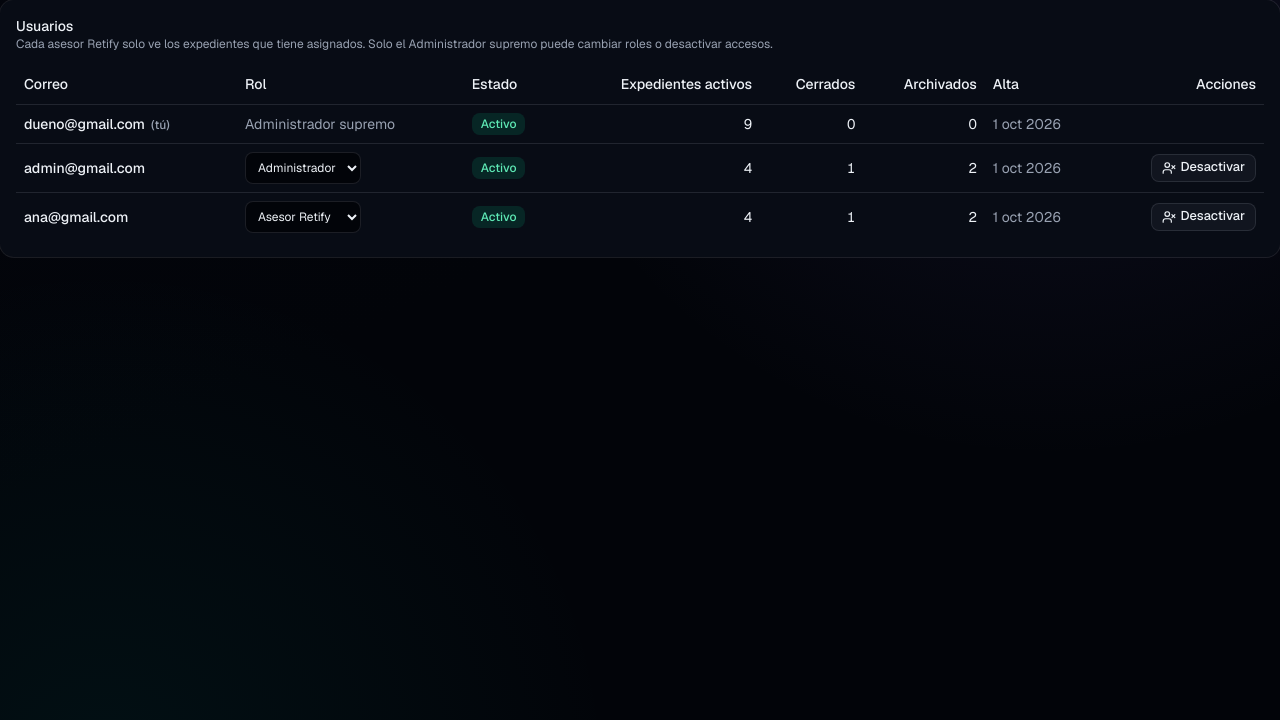
Scenario: TeamMembers › shows the server's reason when the change is refused
Click the button with aria-label "desactivar a ana@gmail.com" at (1204, 216), box [1152,202,1256,230]
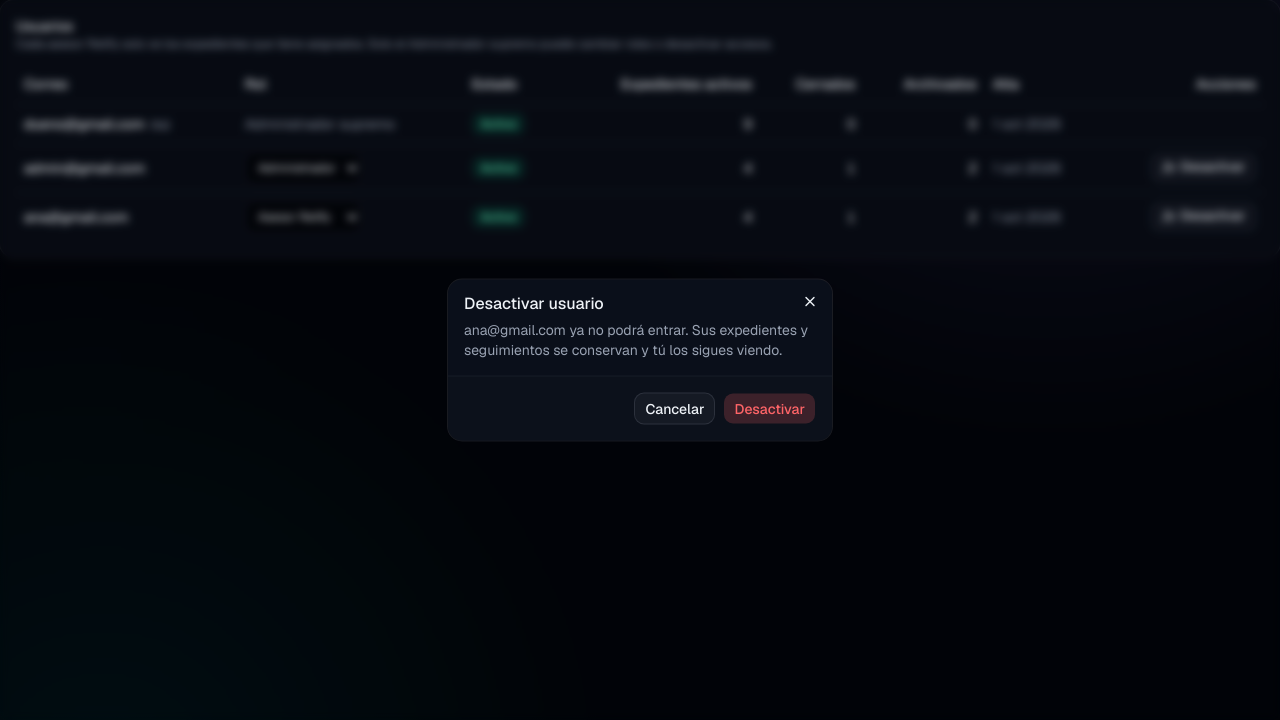
Click the button "Desactivar" at (770, 408), box [723,392,816,424]
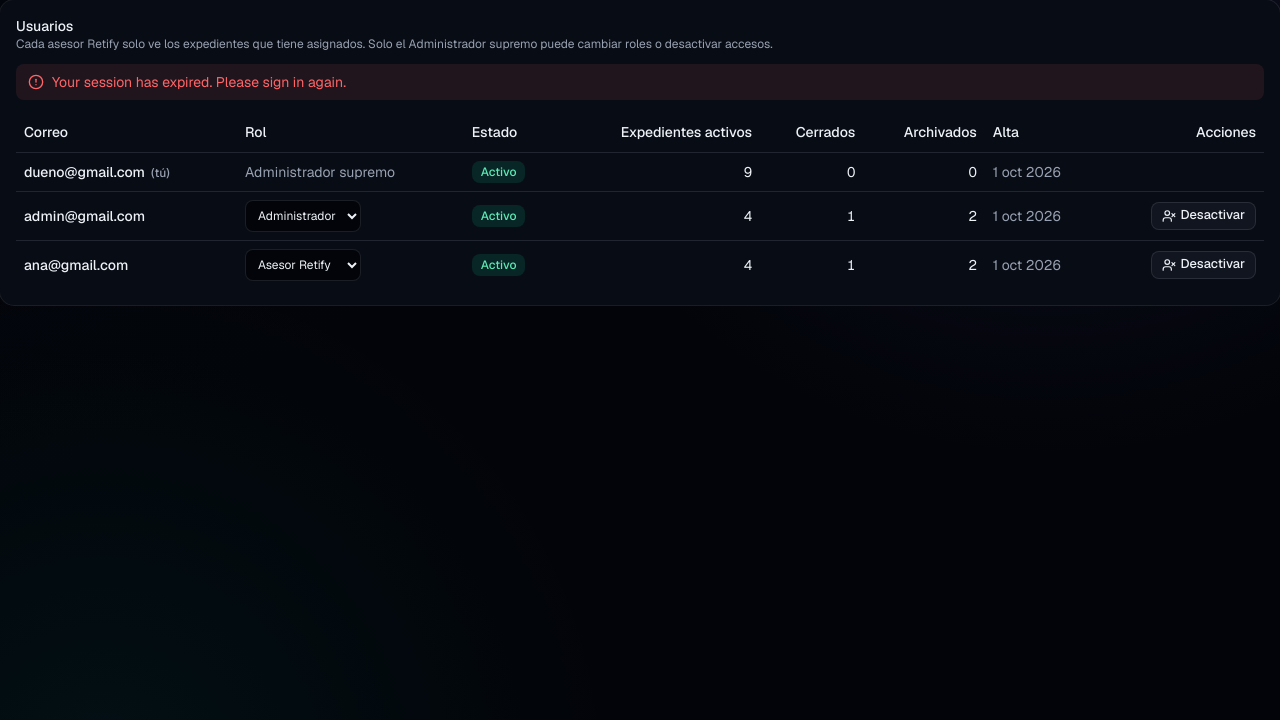
Expected: the message "Your session has expired. Please sign in again." is shown, [16,64,1264,100]
